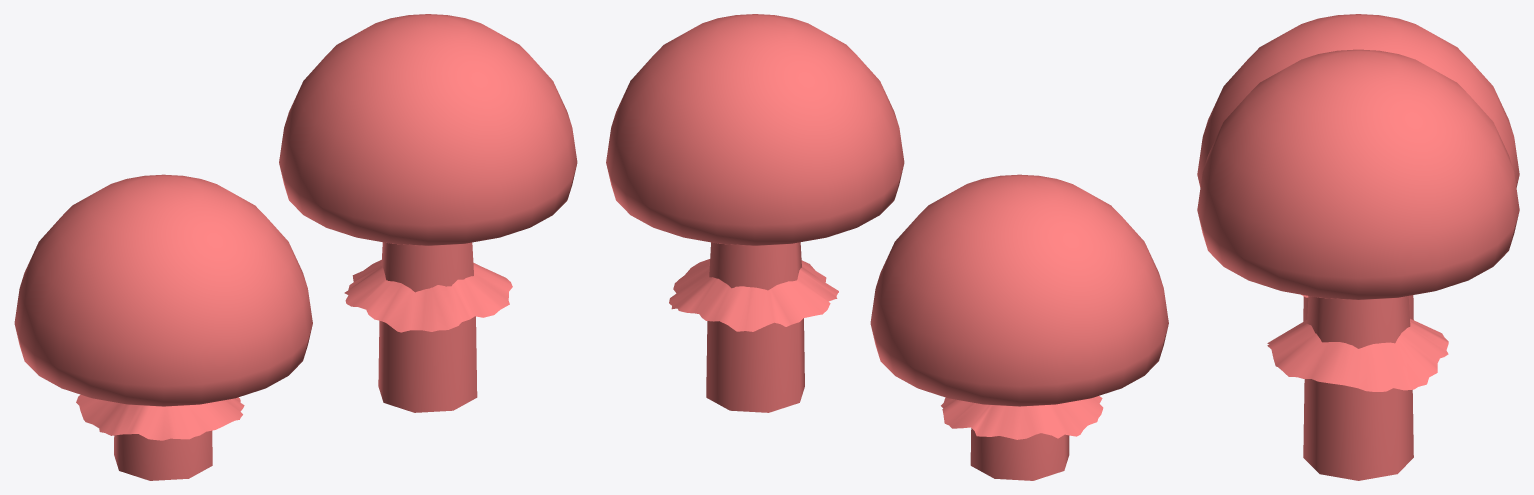
Rendered from WildFungi.fbx.
The picture shows the model from 3 angles, left to right: view 1: azimuth 30°, elevation 25°; view 2: azimuth 150°, elevation 25°; view 3: azimuth 270°, elevation 25°; orthographic projection. The views are drawn at different scales.
Parts seen in each view (by area): view 1: WildFungi; view 2: WildFungi; view 3: WildFungi.
Boxes of the visible parts, <box> form: WildFungi: <box>14,14,577,480</box>; WildFungi: <box>606,14,1168,480</box>; WildFungi: <box>1197,14,1519,480</box>.
Size of the model in its own units: 0.0737 by 0.0496 by 0.0364.
